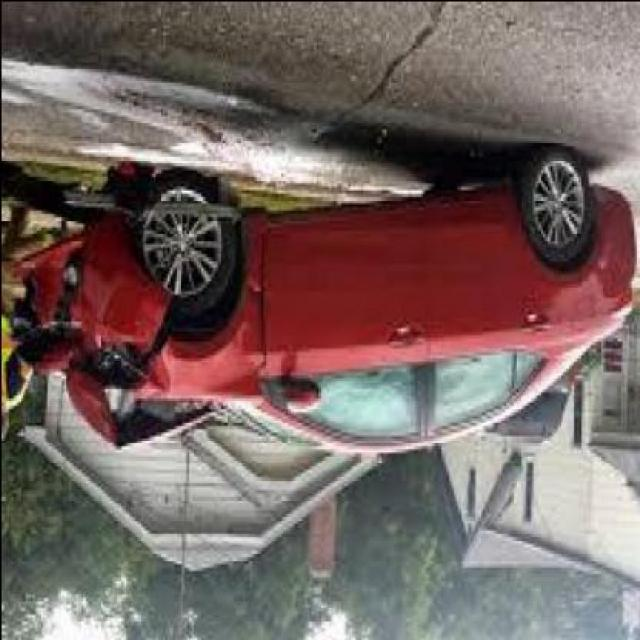damage: (14, 204, 269, 458)
